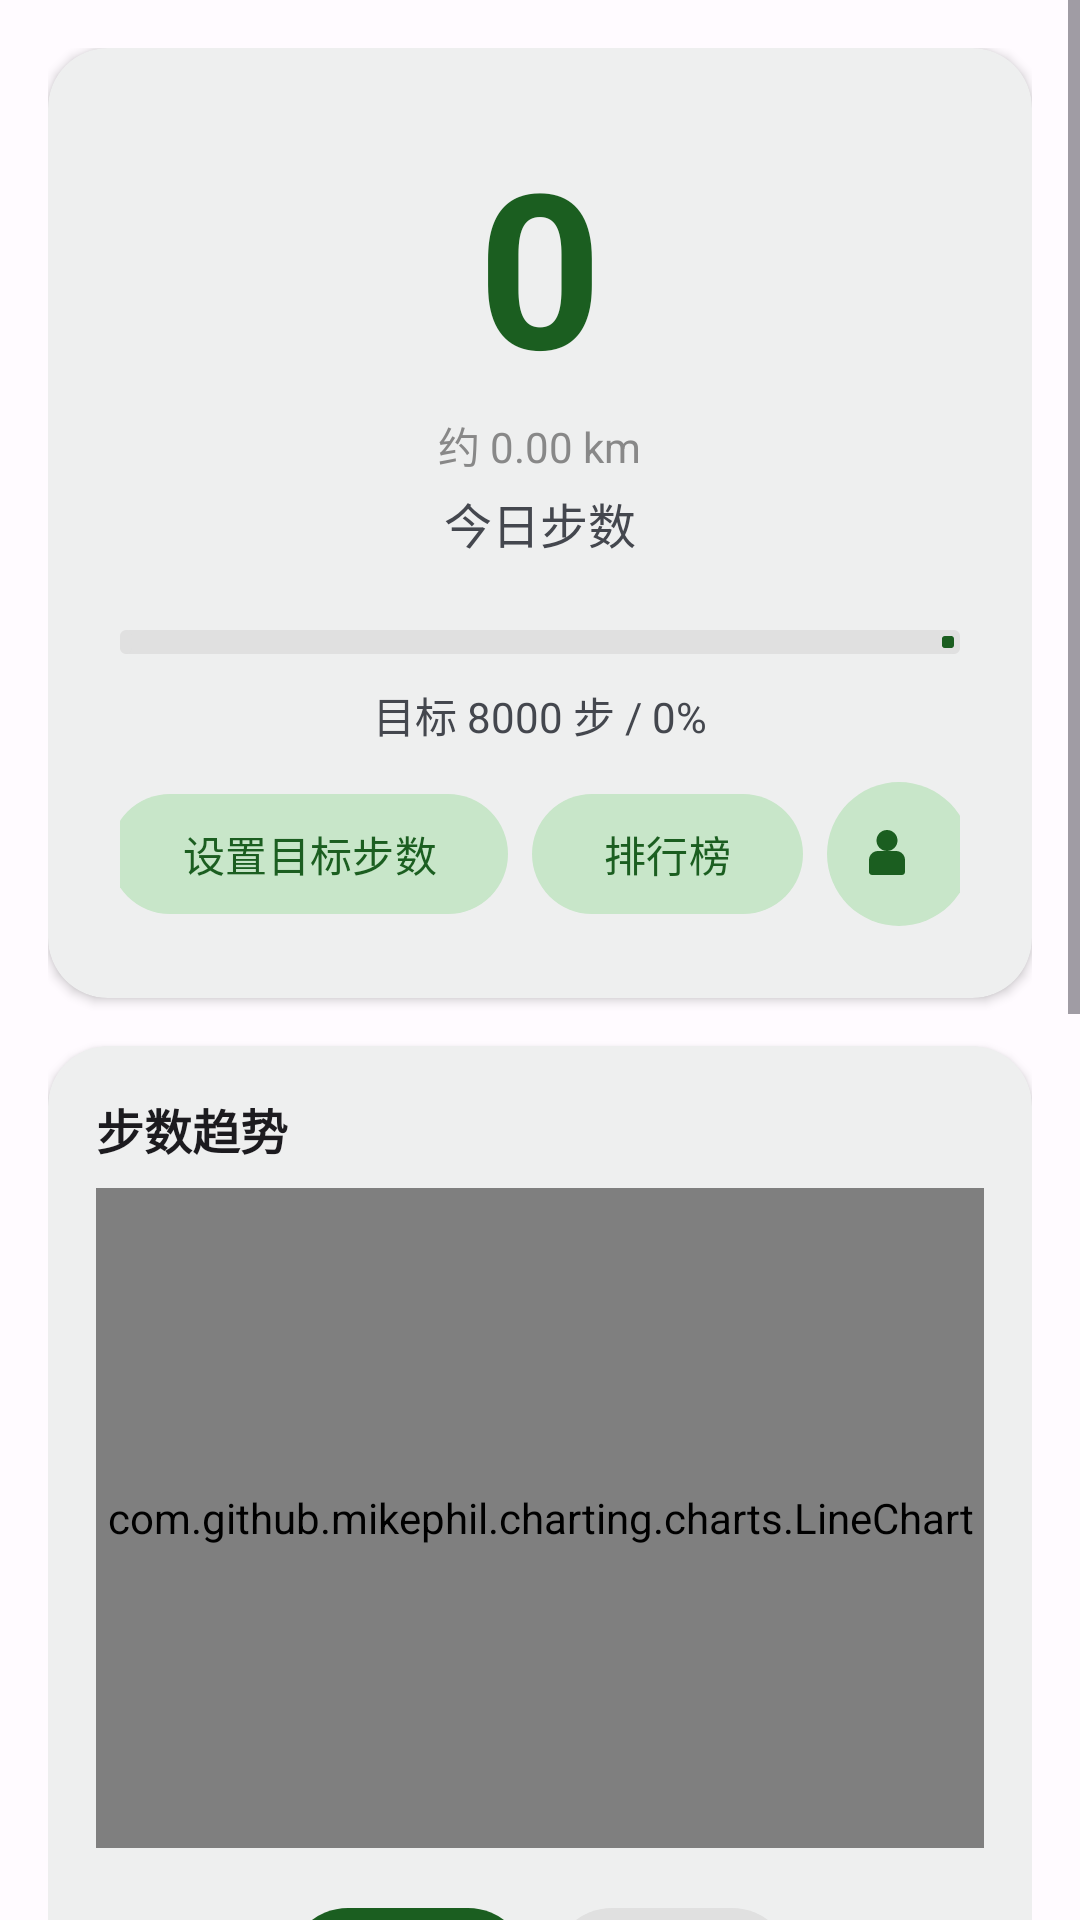

Where icons sit on this 1080 x 1920 app screen, as (x1, y1, x2, y2):
个人中心: (827, 782, 960, 926)
